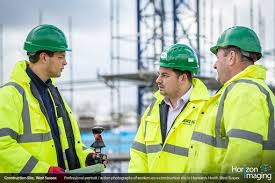helmet: (217, 26, 264, 55), (27, 22, 72, 52), (157, 41, 198, 73)
